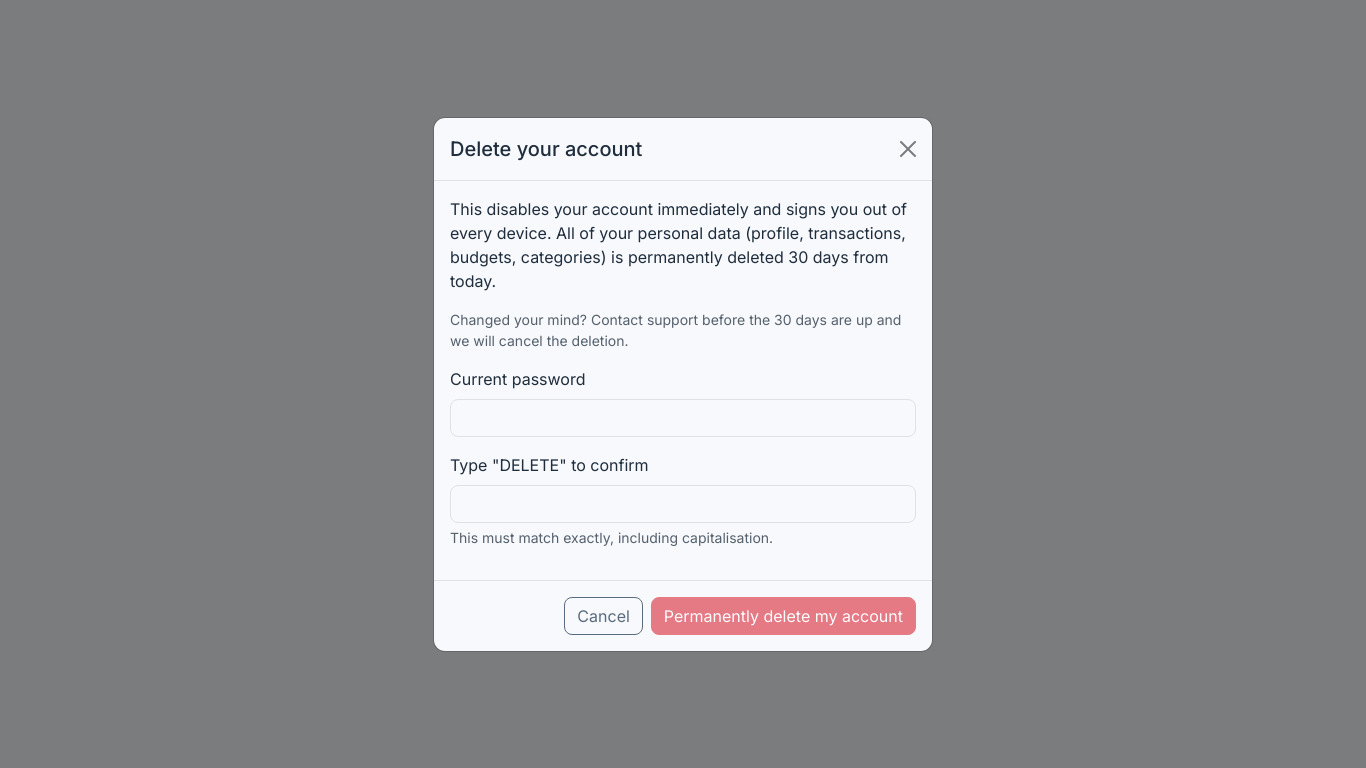
Test: DeleteAccountModal › keeps the submit button disabled until the confirmation phrase matches exactly (case-sensitive)
expect the button "Permanently delete my account" is disabled: met, box x1=651 y1=596 x2=916 y2=634
Type "delete" into the field labelled "Type \"DELETE\" to confirm" at (683,504), box x1=450 y1=484 x2=916 y2=522
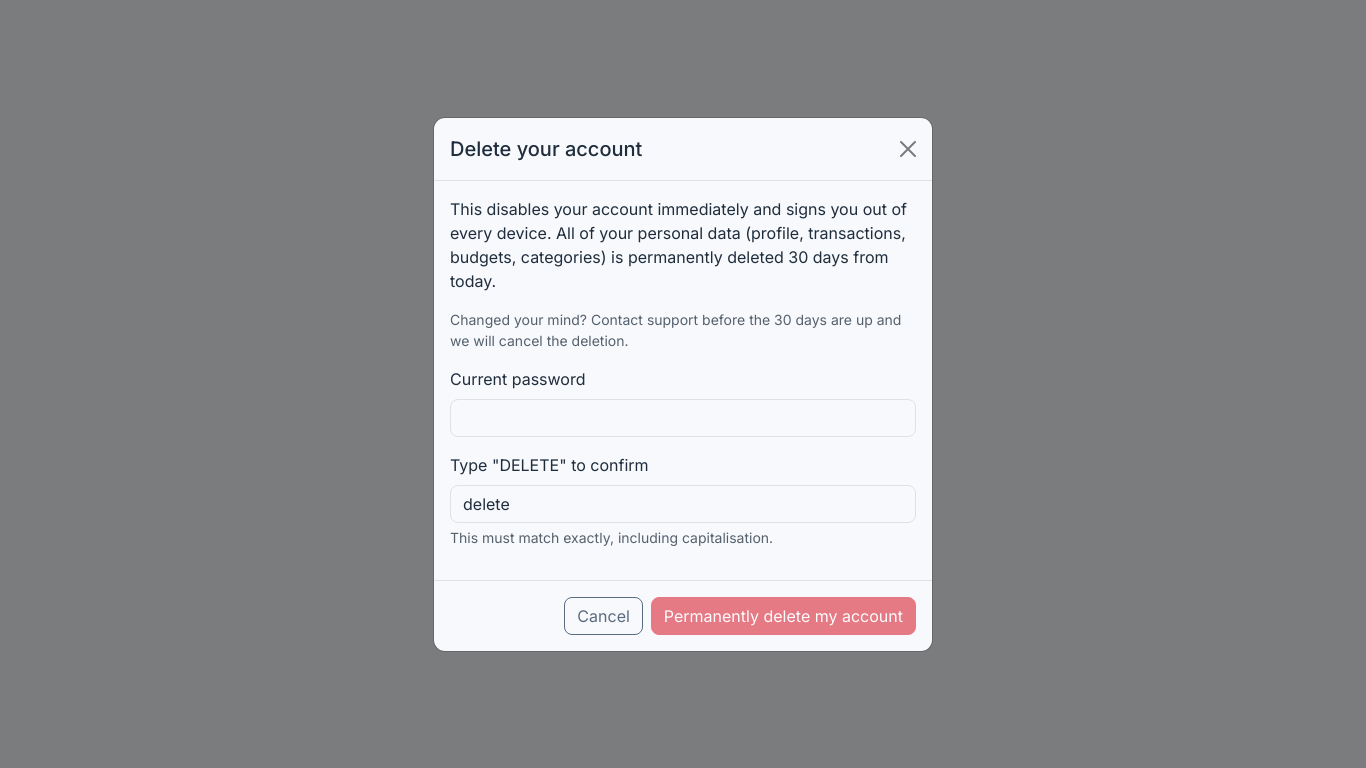
expect the button "Permanently delete my account" is disabled: met, box x1=651 y1=596 x2=916 y2=634
Replace the text in the field labelled "Type \"DELETE\" to confirm" with "DELETE" at (683,504), box x1=450 y1=484 x2=916 y2=522
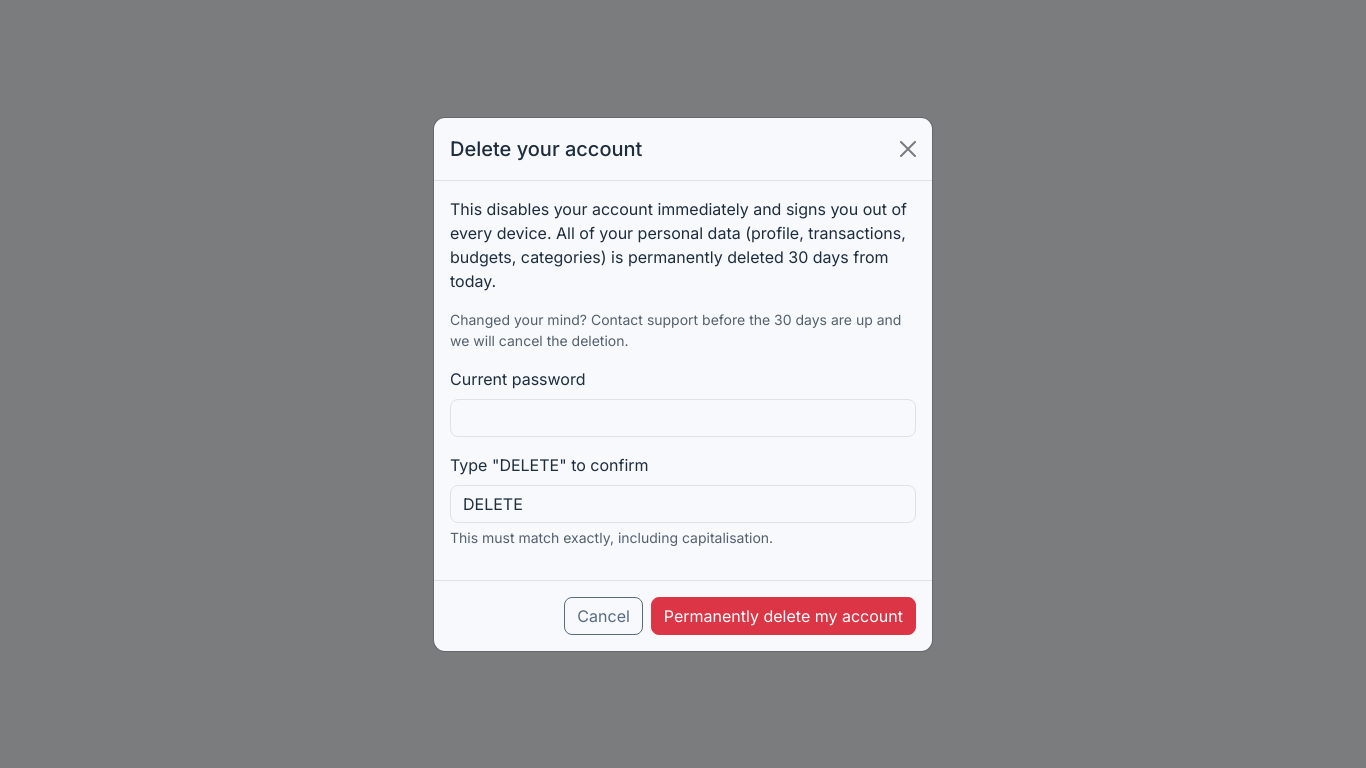
expect the button "Permanently delete my account" is enabled: met, box x1=651 y1=596 x2=916 y2=634
